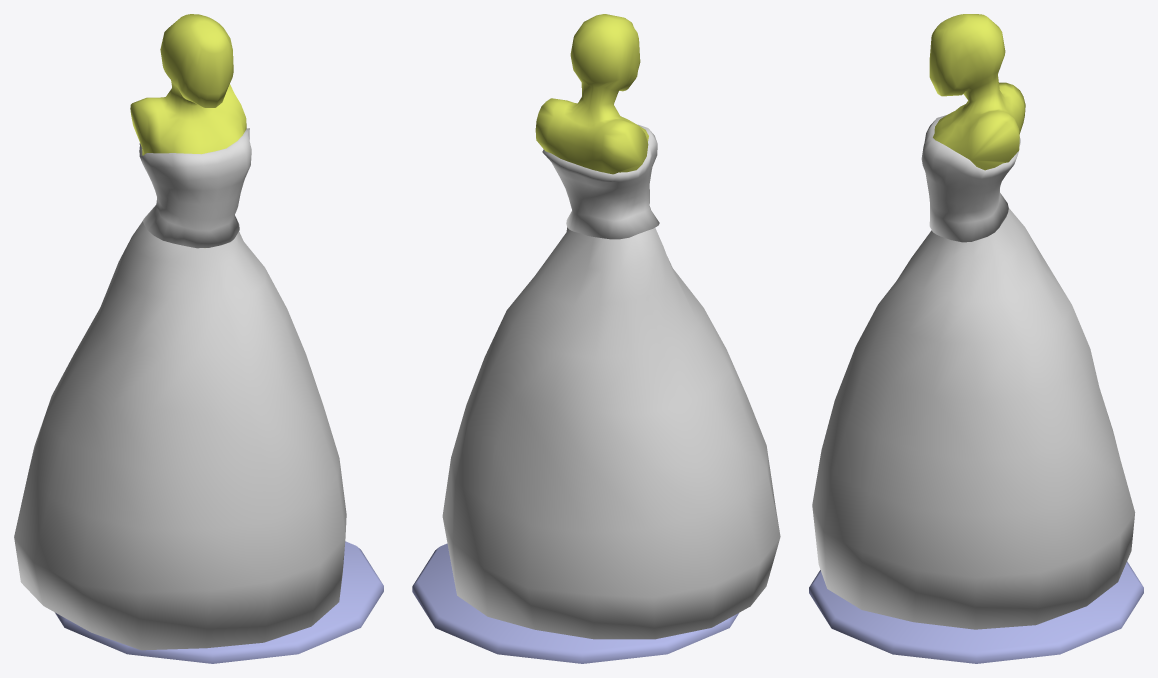
The model's file is Luxury_Dress_ondisplay.fbx.
3 renders of one model, left to right at view 1: azimuth 30°, elevation 25°; view 2: azimuth 150°, elevation 25°; view 3: azimuth 270°, elevation 25°, orthographic. The views are drawn at different scales.
Visible parts, largest first — view 1: dress_low, mannequin_dress; view 2: dress_low, mannequin_dress; view 3: dress_low, mannequin_dress.
Boxes of the visible parts, x1,y1,x2,y2 form: dress_low: (14, 128, 346, 650); mannequin_dress: (55, 14, 383, 663); dress_low: (442, 124, 780, 639); mannequin_dress: (412, 14, 738, 663); dress_low: (812, 115, 1135, 629); mannequin_dress: (809, 14, 1143, 663).
Bounding box in the file's own units: 7.43 × 12.59 × 6.73.
